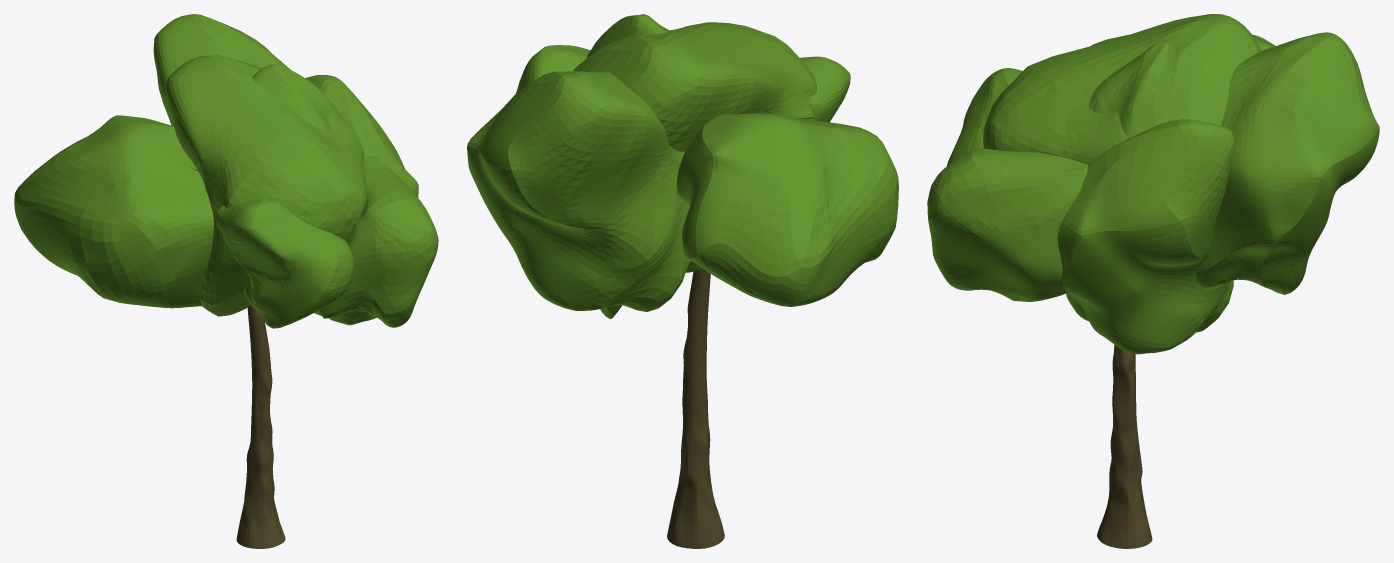
The model's file is tree2.glb.
3 renders of one model, left to right at view 1: azimuth 30°, elevation 25°; view 2: azimuth 150°, elevation 25°; view 3: azimuth 270°, elevation 25°, orthographic. The views are drawn at different scales.
Visible parts, largest first — view 1: Copa 4, Copa 1, Copa 6, Copa, Tronco 1, Copa 5, Copa 3, Copa 2; view 2: Copa 5, Copa 4, Copa 1, Tronco 1, Copa 6, Copa 3, Copa 2; view 3: Copa 3, Copa 5, Copa 1, Copa, Tronco 1, Copa 2, Copa 6.
Boxes of the visible parts, x1=… form: Copa 4: x1=14, y1=115, x2=213, y2=308; Copa 1: x1=165, y1=55, x2=366, y2=316; Copa 6: x1=216, y1=199, x2=353, y2=328; Copa: x1=319, y1=156, x2=438, y2=327; Tronco 1: x1=192, y1=168, x2=285, y2=548; Copa 5: x1=153, y1=14, x2=289, y2=125; Copa 3: x1=305, y1=75, x2=418, y2=315; Copa 2: x1=252, y1=64, x2=344, y2=132; Copa 5: x1=467, y1=71, x2=690, y2=311; Copa 4: x1=677, y1=113, x2=898, y2=306; Copa 1: x1=573, y1=22, x2=816, y2=272; Tronco 1: x1=667, y1=107, x2=774, y2=548; Copa 6: x1=800, y1=56, x2=850, y2=122; Copa 3: x1=516, y1=45, x2=621, y2=318; Copa 2: x1=587, y1=14, x2=669, y2=57; Copa 3: x1=1057, y1=119, x2=1235, y2=354; Copa 5: x1=1196, y1=32, x2=1379, y2=294; Copa 1: x1=983, y1=14, x2=1261, y2=164; Copa: x1=927, y1=148, x2=1088, y2=301; Tronco 1: x1=1097, y1=344, x2=1152, y2=548; Copa 2: x1=1089, y1=40, x2=1178, y2=137; Copa 6: x1=947, y1=68, x2=1022, y2=165.
Size of the model in its own units: 78.18 by 107 by 85.65.
